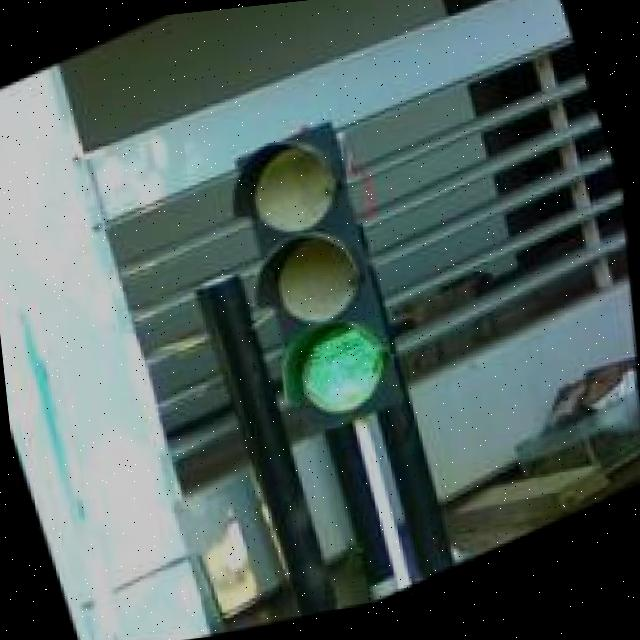green_light: (202, 113, 434, 462)
